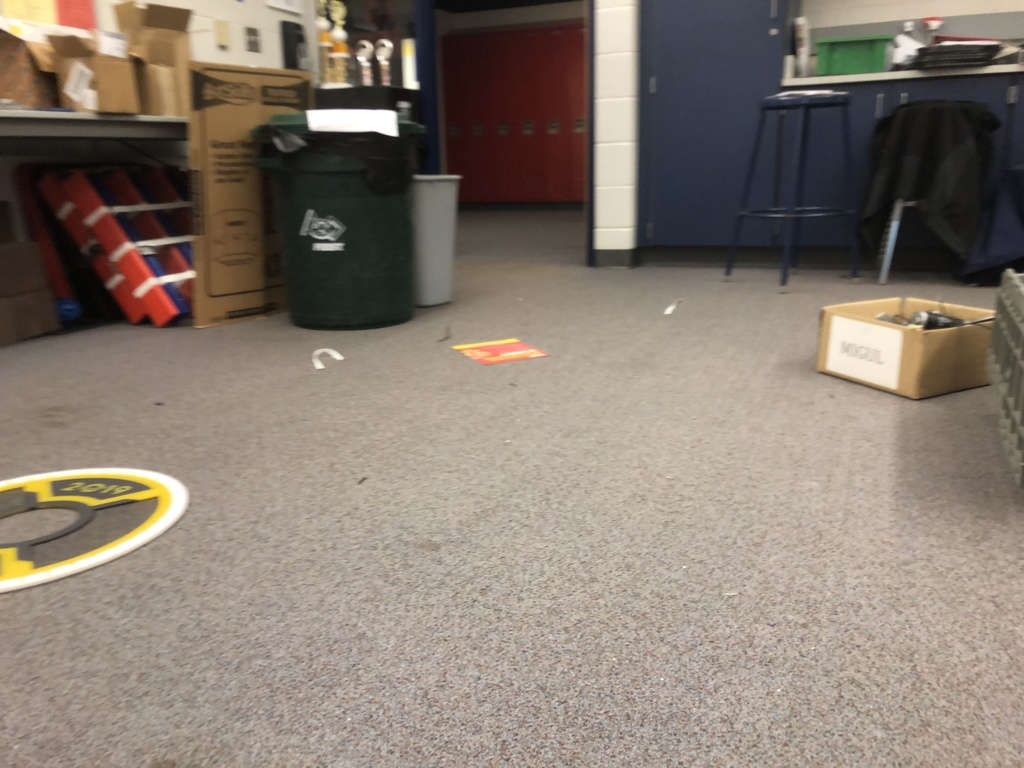hatch_panel: (1, 459, 213, 605)
